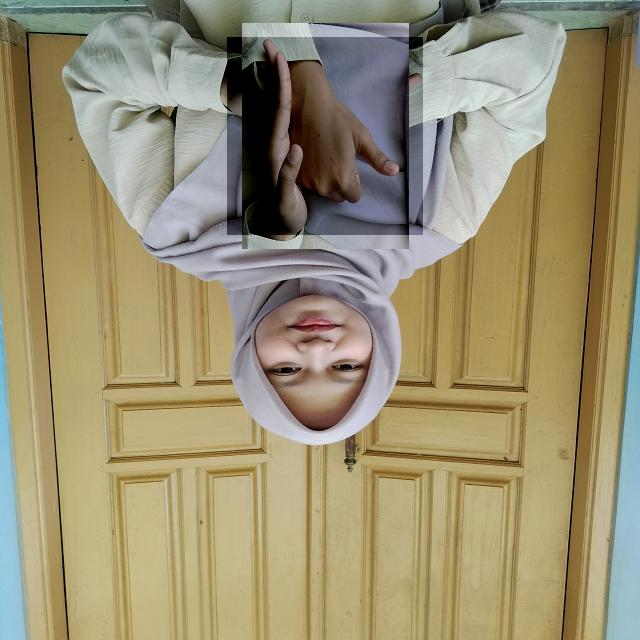cantik: (227, 37, 423, 235)
